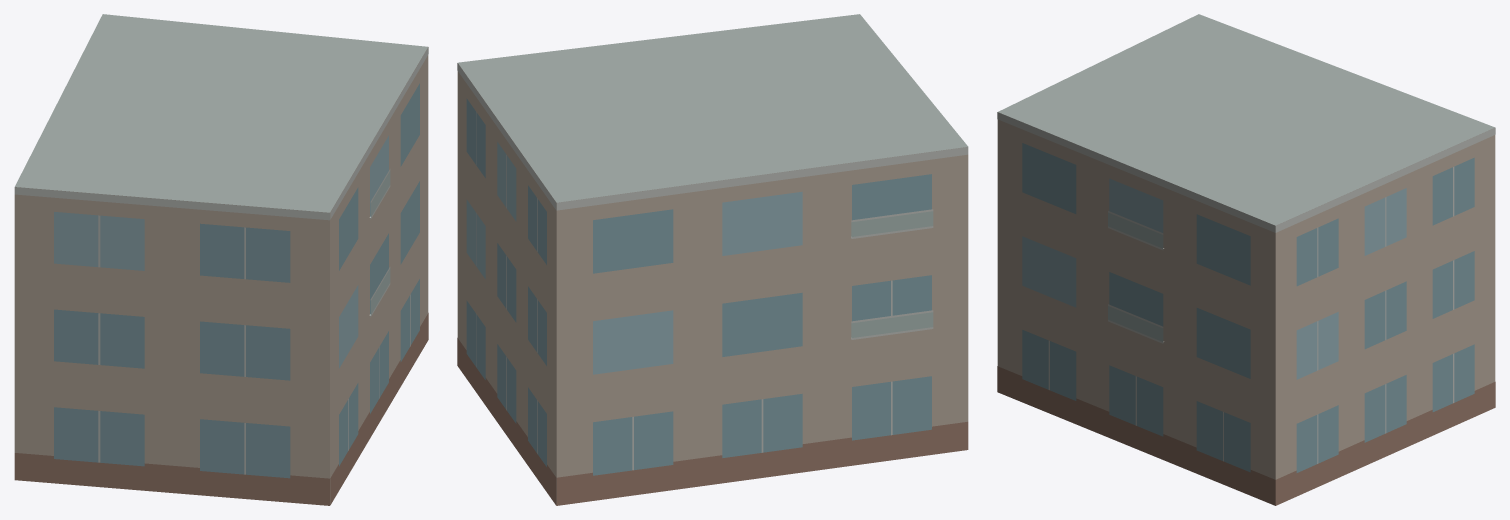
The model's file is survey-upis-32838207.glb.
3 views of the same model, side by side, from view 1: azimuth 30°, elevation 25°; view 2: azimuth 150°, elevation 25°; view 3: azimuth 270°, elevation 25° (orthographic). The views are drawn at different scales.
Visible parts, largest first — view 1: survey-upis-32838207.tmp; view 2: survey-upis-32838207.tmp; view 3: survey-upis-32838207.tmp.
Part boxes in pixels (x1=…): survey-upis-32838207.tmp: x1=14, y1=14, x2=428, y2=505; survey-upis-32838207.tmp: x1=457, y1=14, x2=968, y2=505; survey-upis-32838207.tmp: x1=997, y1=14, x2=1495, y2=505.
Bounding box in the file's own units: 15.24 × 9.4 × 15.14.
